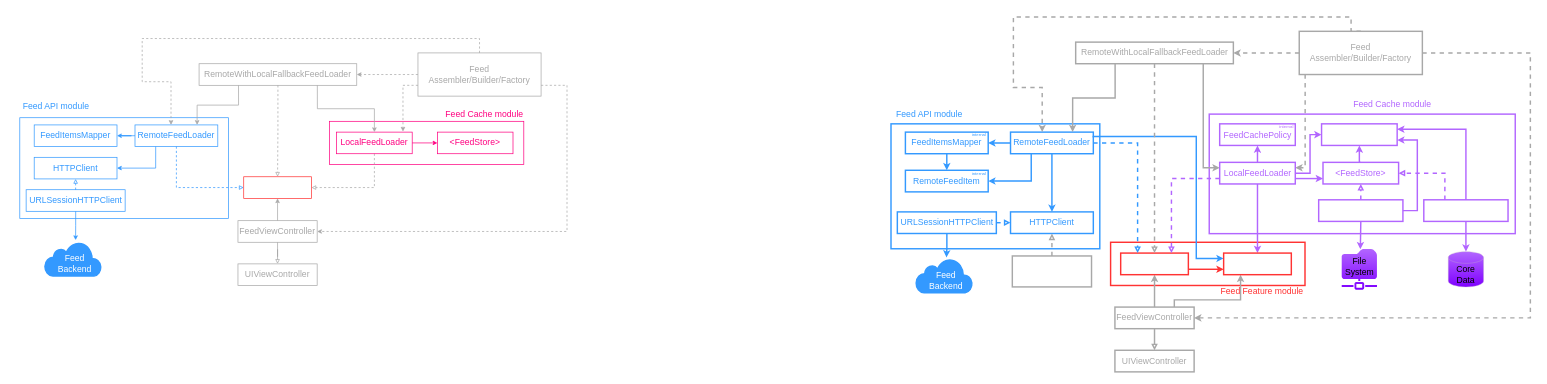
This 1547x384 diagram has some shape labels left out. Here are the shapes that lost their labels. From the top down, the centre of each, then its label:
At point 1359,134: "LocalFeedImage".
At point 277,187: "<Feed Feature>".
At point 1360,210: "CodableFeedStore".
At point 1465,210: "CoreDataFeedStore".
At point 1051,271: "AnyHTTPClient Implementation".
At point 1154,263: "<FeedLoader>".
At point 1257,263: "FeedImage".
